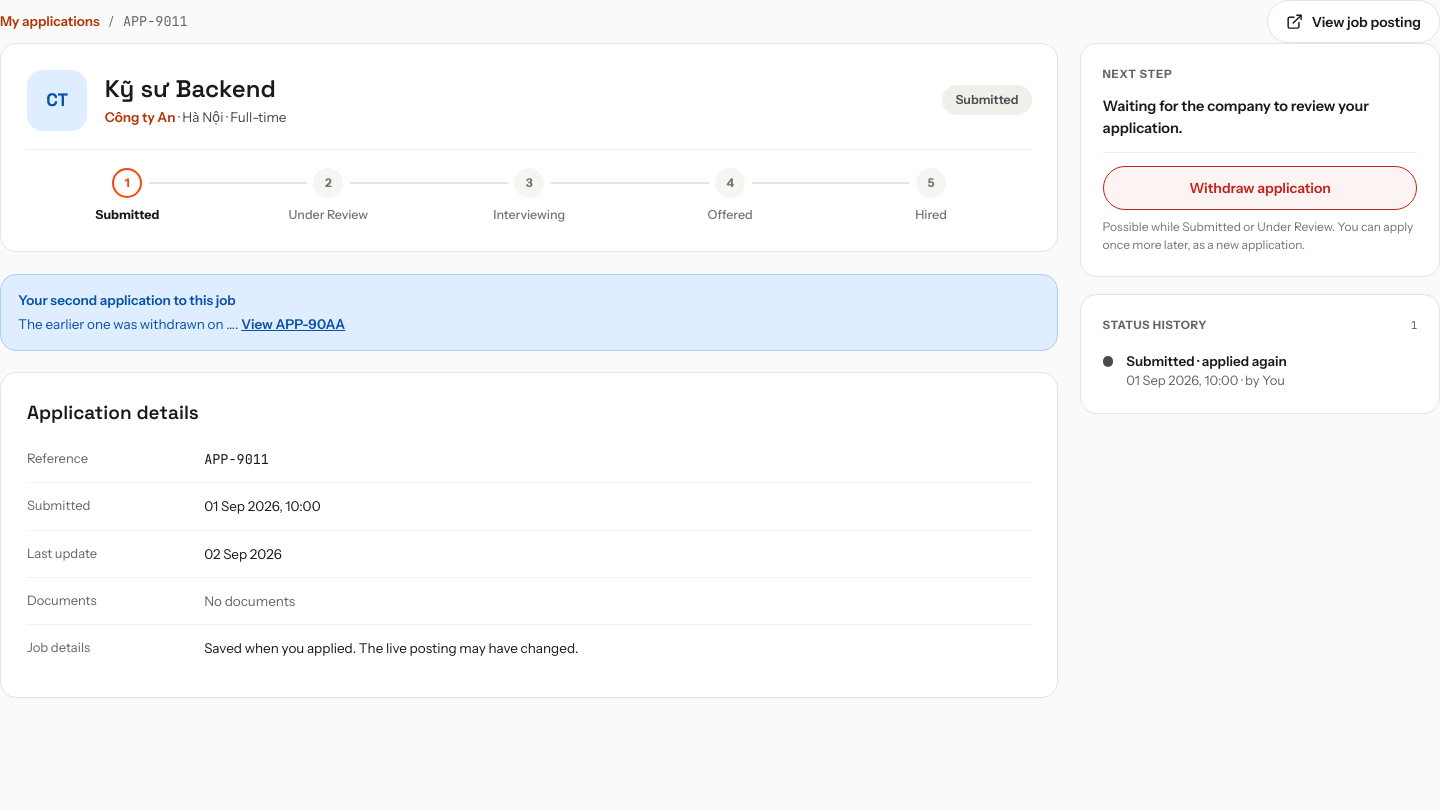
Candidate My Applications › warns that a reapplication cannot be applied for again when withdrawing it (UC-MYAPP-04 Assumption 2)
expect the text "Your second application to this job" is shown: met, box [18, 290, 236, 310]
Click the button "Withdraw application": (1260, 188) [1103, 166, 1417, 210]
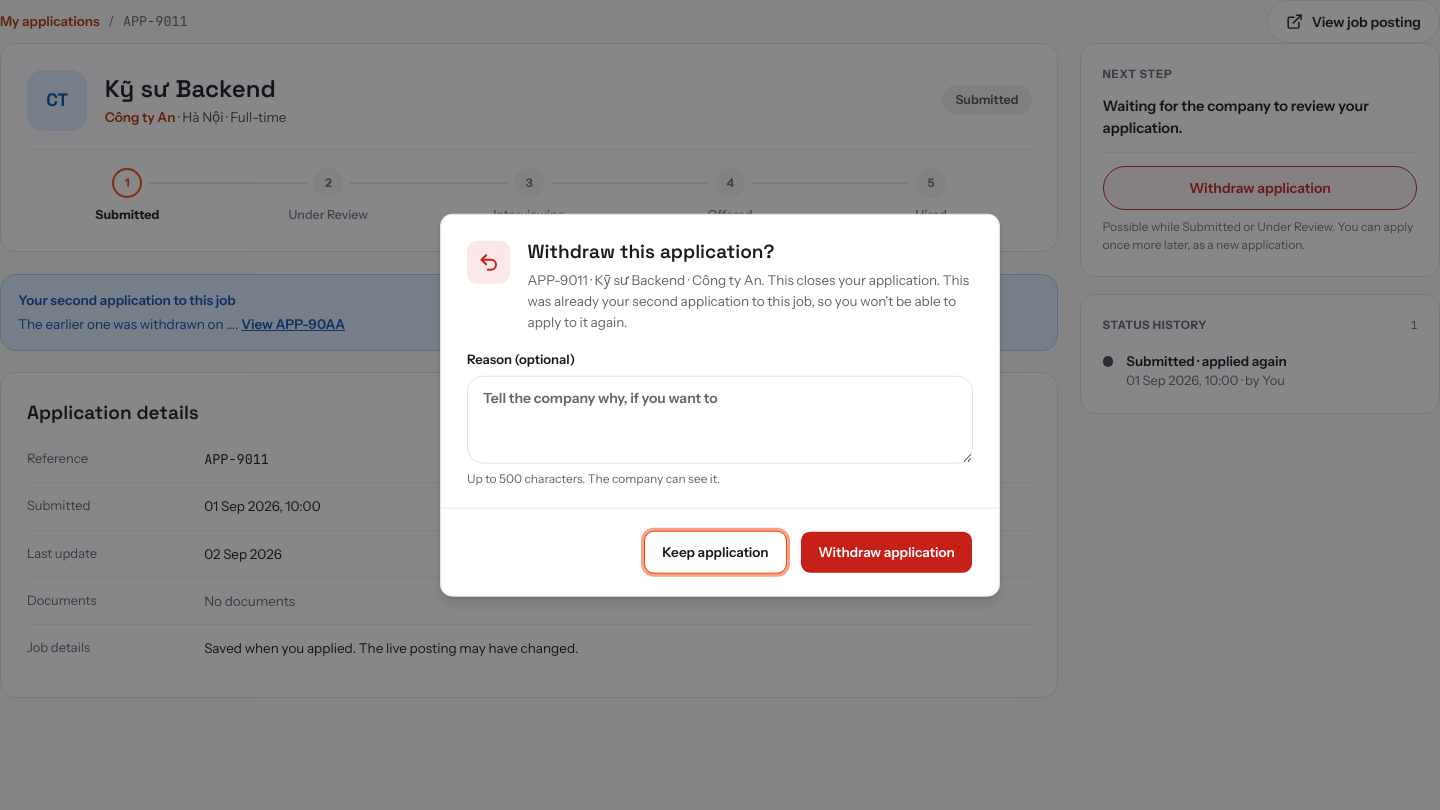
expect the text "already your second application" is shown: met, box [528, 272, 969, 330]
